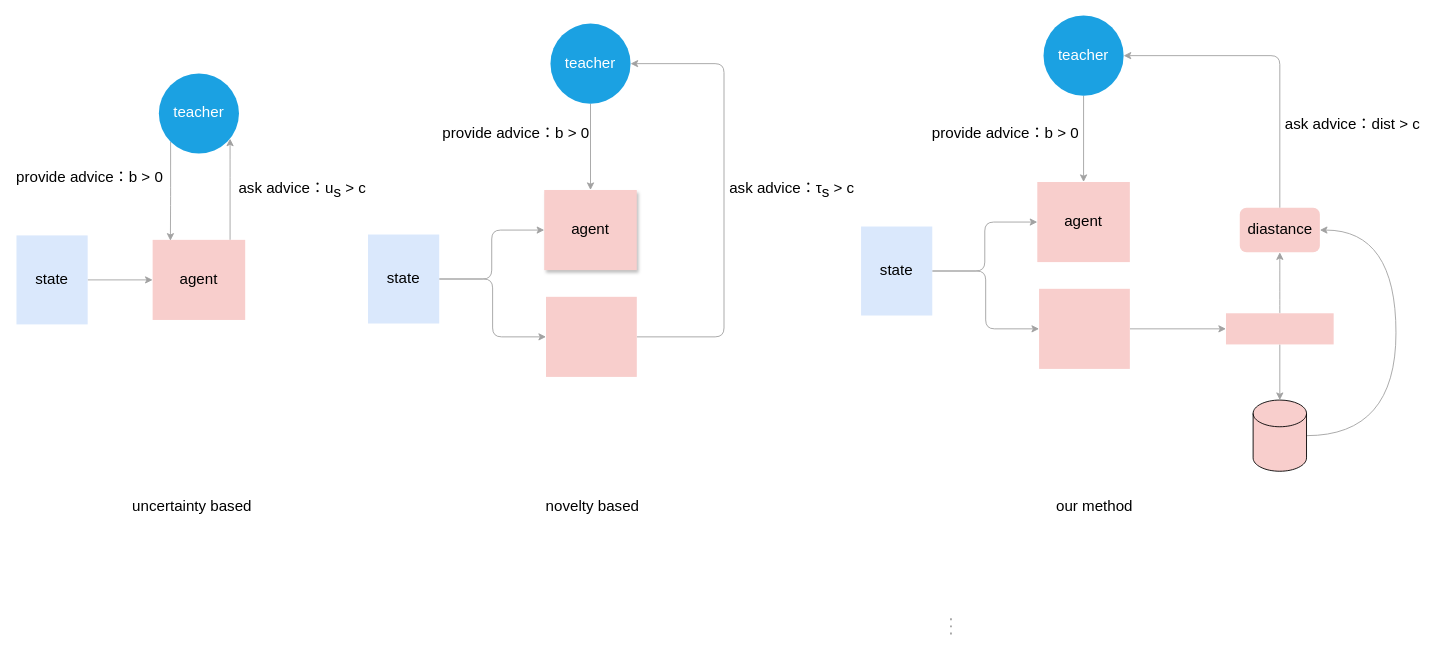
Some shapes in this 1435 by 652 pixel diagram are drawn without their labels. Each missing label, with the centre of its shape:
Action BYOL: point (1084, 328)
buffer: point (1279, 435)
feature: point (1279, 328)
RND: point (591, 336)
